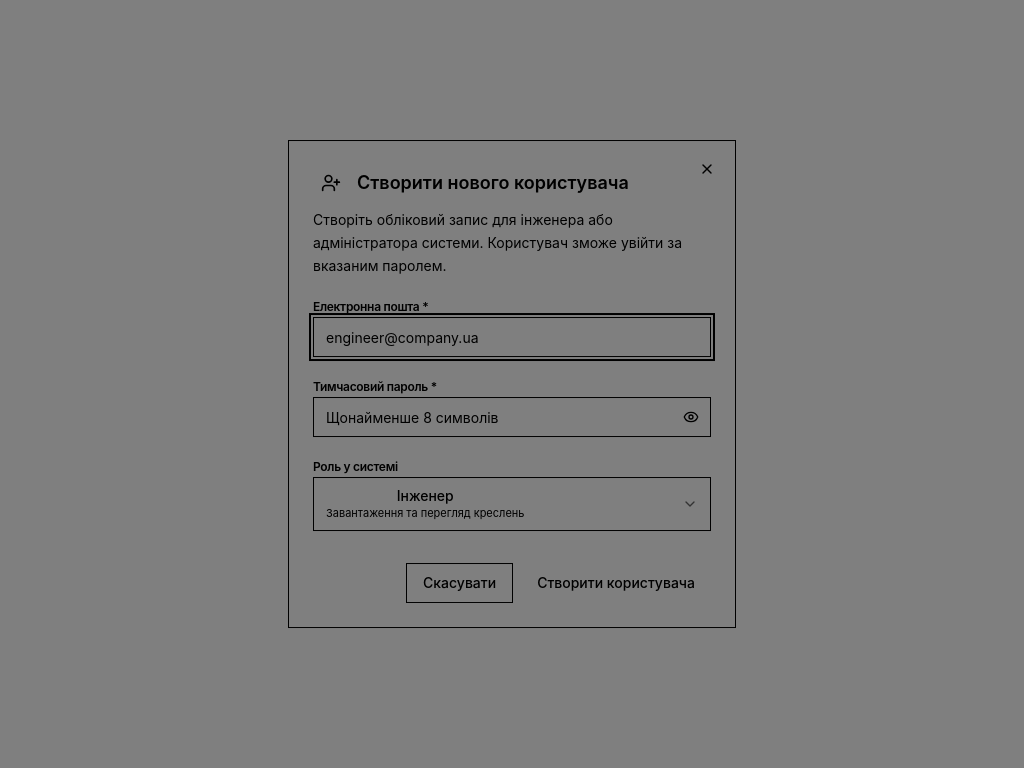
Test case: CreateUserDialog Component (BIM-66 Phase 4) › Client-side Form Validation › shows error for invalid email format
The image size is (1024, 768).
Type "invalid-email-address" into the field labelled "Електронна пошта *" at (512, 337), box left=313, top=317, right=711, bottom=357
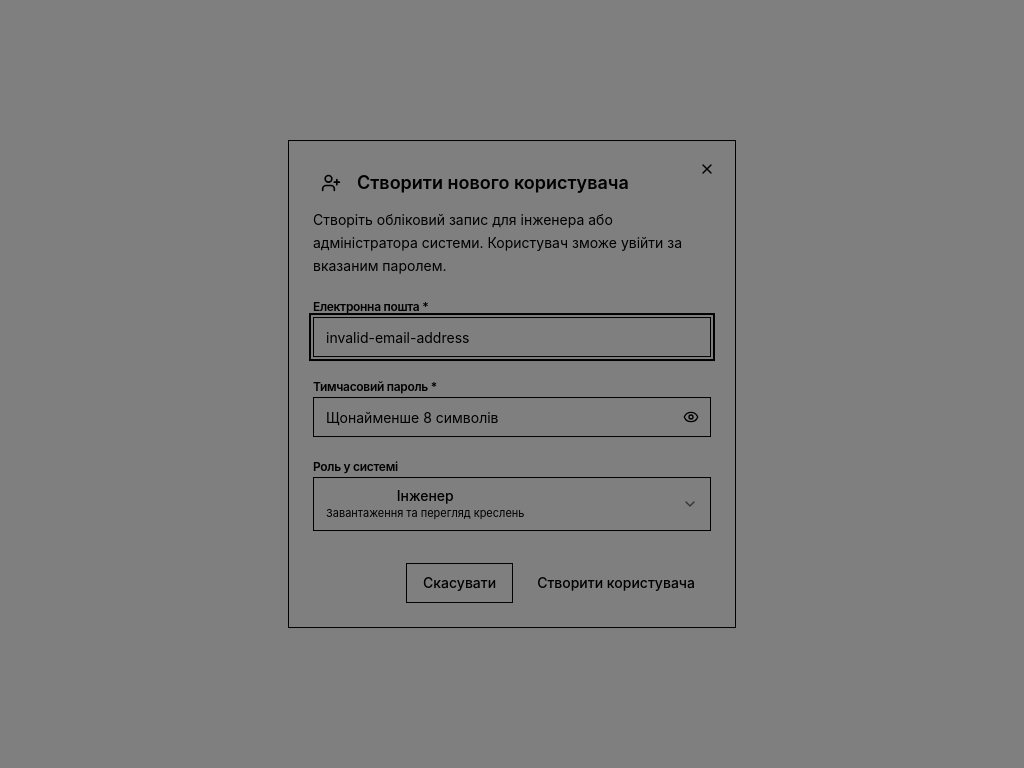
Type "validpassword123" into the password field labelled "Тимчасовий пароль *" at (512, 417), box left=313, top=397, right=711, bottom=437
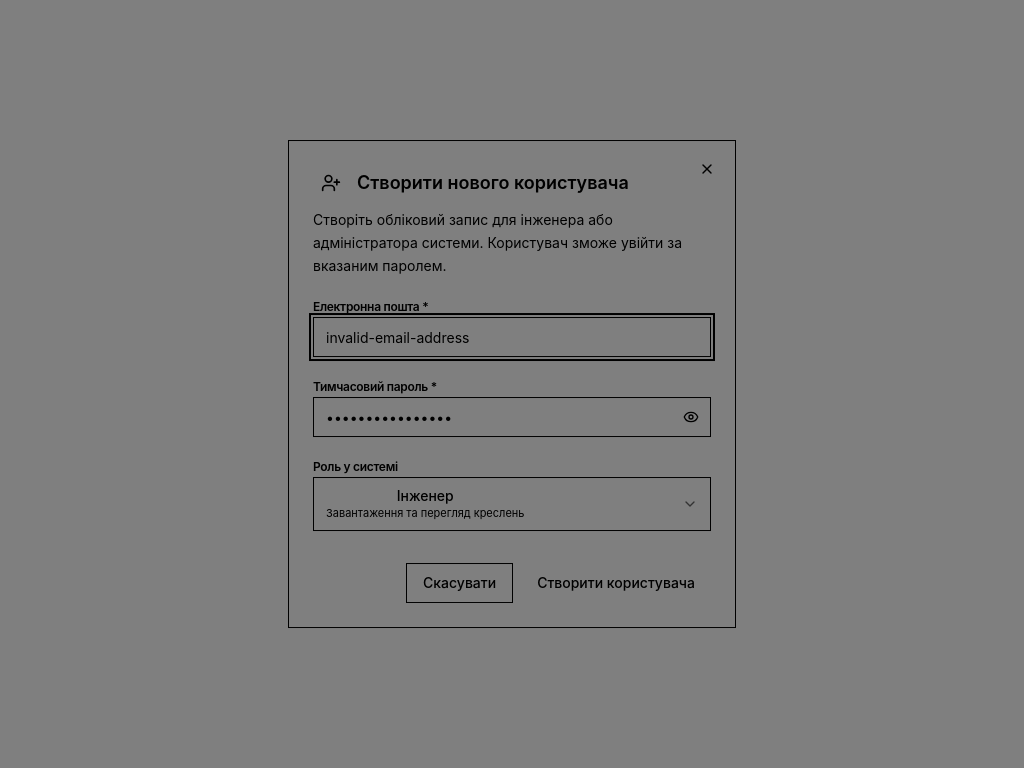
Click the button with test id "create-user-submit-button" at (616, 583), box left=521, top=563, right=711, bottom=603
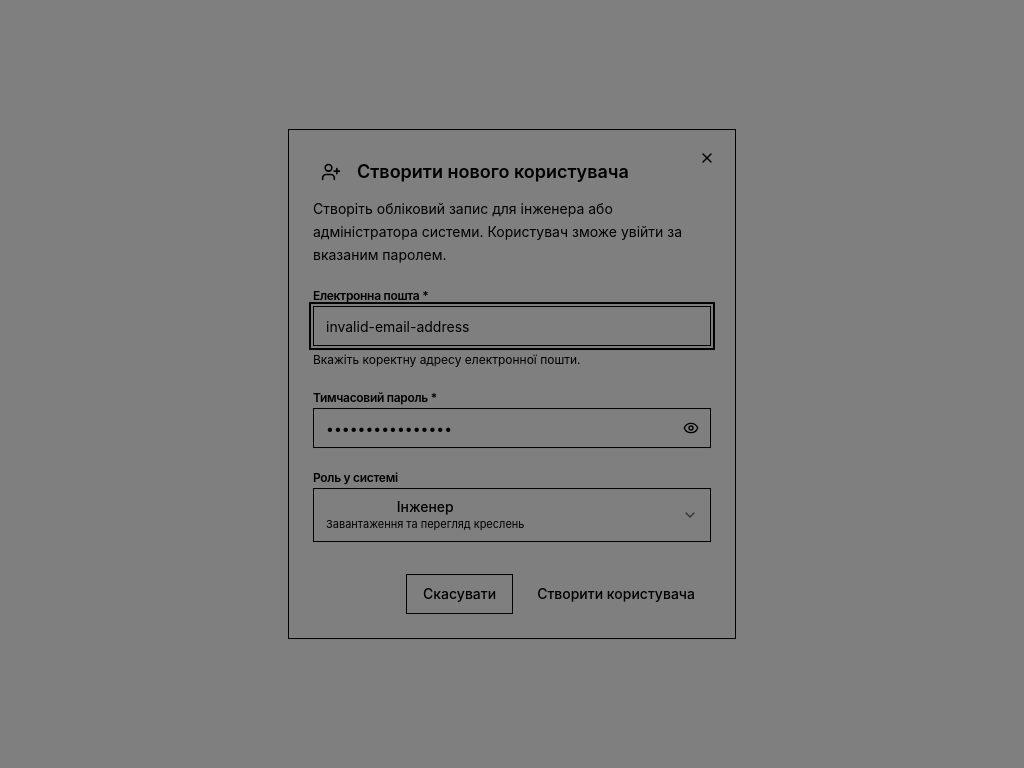
Result: the text "Вкажіть коректну адресу електронної пошти." is shown at left=313, top=352, right=581, bottom=367
